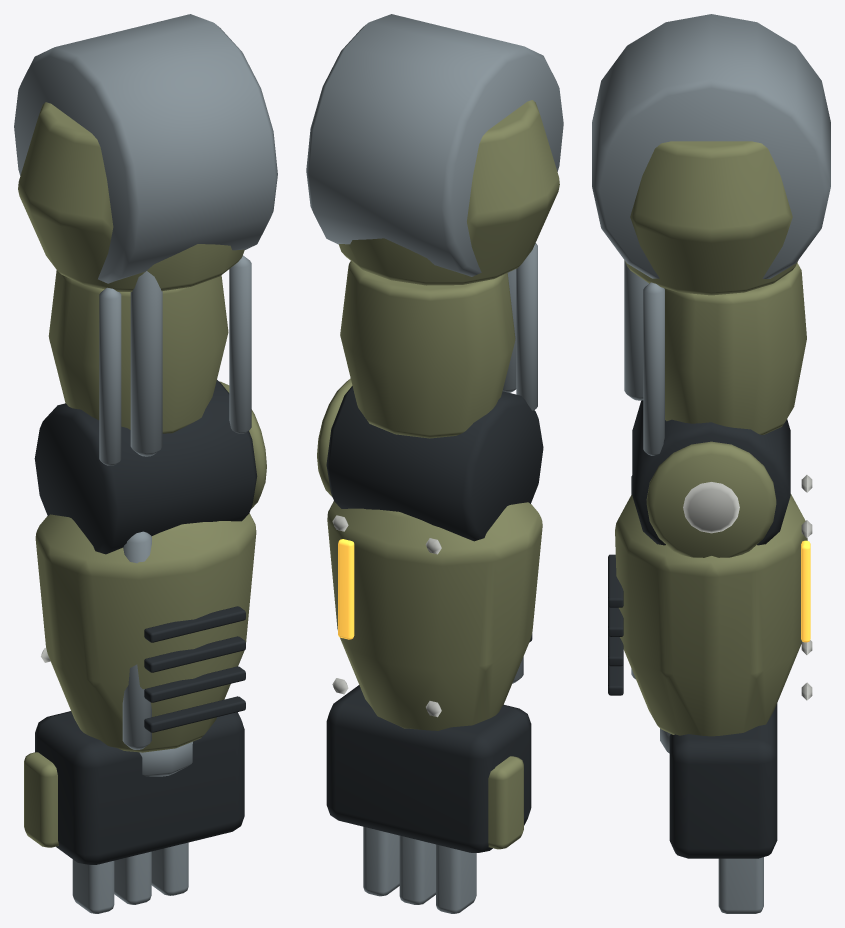
The model's file is arms_03.glb.
The picture shows the model from 3 angles, left to right: view 1: azimuth 30°, elevation 25°; view 2: azimuth 150°, elevation 25°; view 3: azimuth 270°, elevation 25°; orthographic projection. The views are drawn at different scales.
Parts seen in each view (by area): view 1: Forearm.002_Geometry, UpperArm.002_Geometry, Shoulder bearing.002; view 2: Forearm.002_Geometry, UpperArm.002_Geometry, Shoulder bearing.002; view 3: Forearm.002_Geometry, UpperArm.002_Geometry, Shoulder bearing.002.
Part boxes in pixels (box(x1,y1,x2,y2)): Forearm.002_Geometry: box(24, 381, 266, 913); UpperArm.002_Geometry: box(18, 102, 257, 554); Shoulder bearing.002: box(14, 14, 277, 283); Forearm.002_Geometry: box(317, 378, 542, 913); UpperArm.002_Geometry: box(326, 100, 559, 541); Shoulder bearing.002: box(306, 14, 563, 276); Forearm.002_Geometry: box(608, 441, 812, 913); UpperArm.002_Geometry: box(624, 141, 806, 545); Shoulder bearing.002: box(592, 14, 830, 278).
Size of the model in its own units: 0.2182 by 0.7825 by 0.2.
